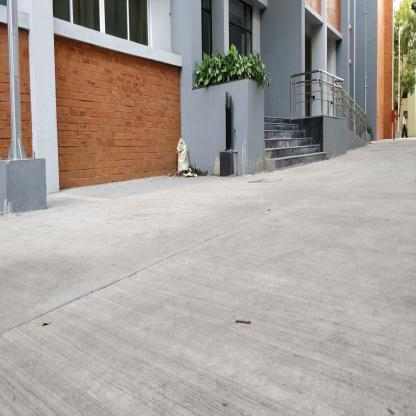stairs: (266, 117, 297, 175)
